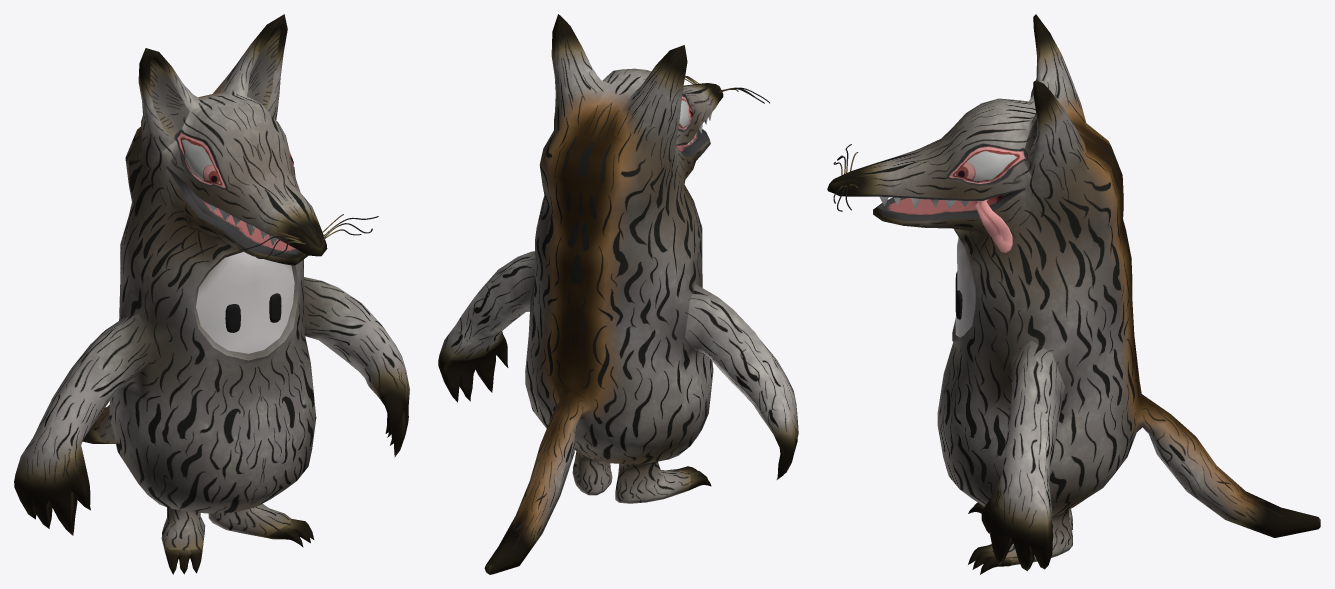
The model's file is playerLvl6.glb.
The picture shows the model from 3 angles, left to right: view 1: azimuth 30°, elevation 25°; view 2: azimuth 150°, elevation 25°; view 3: azimuth 270°, elevation 25°; orthographic projection. The views are drawn at different scales.
Visible parts, largest first — view 1: Cylinder001_wolf_0; view 2: Cylinder001_wolf_0; view 3: Cylinder001_wolf_0.
Boxes of the visible parts, x1=… form: Cylinder001_wolf_0: x1=14, y1=14, x2=409, y2=574; Cylinder001_wolf_0: x1=438, y1=14, x2=798, y2=574; Cylinder001_wolf_0: x1=827, y1=14, x2=1320, y2=574.
Size of the model in its own units: 92.57 by 114 by 104.
Materials: 1 (1 with a texture image).
